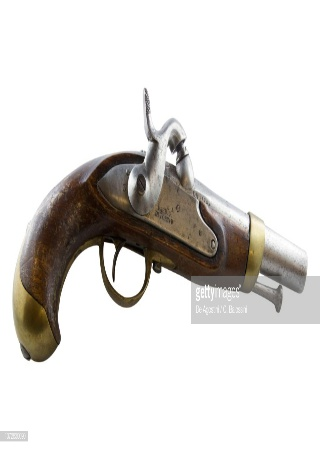handgun: (9, 87, 309, 357)
